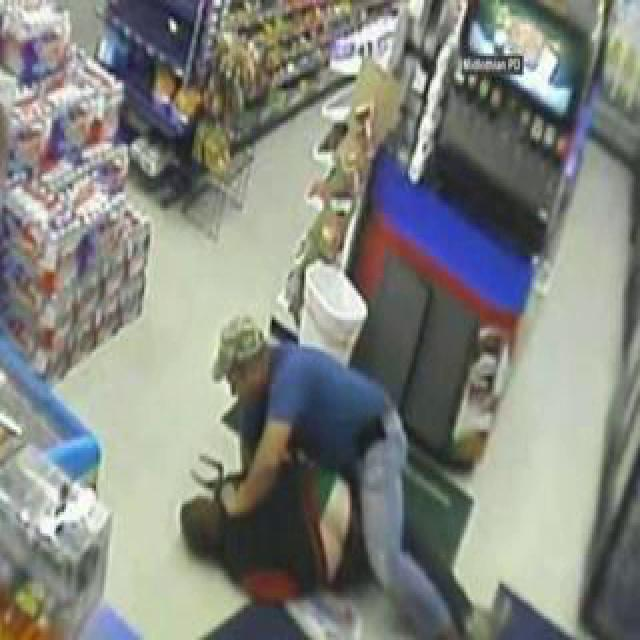arrest: (166, 241, 489, 640)
